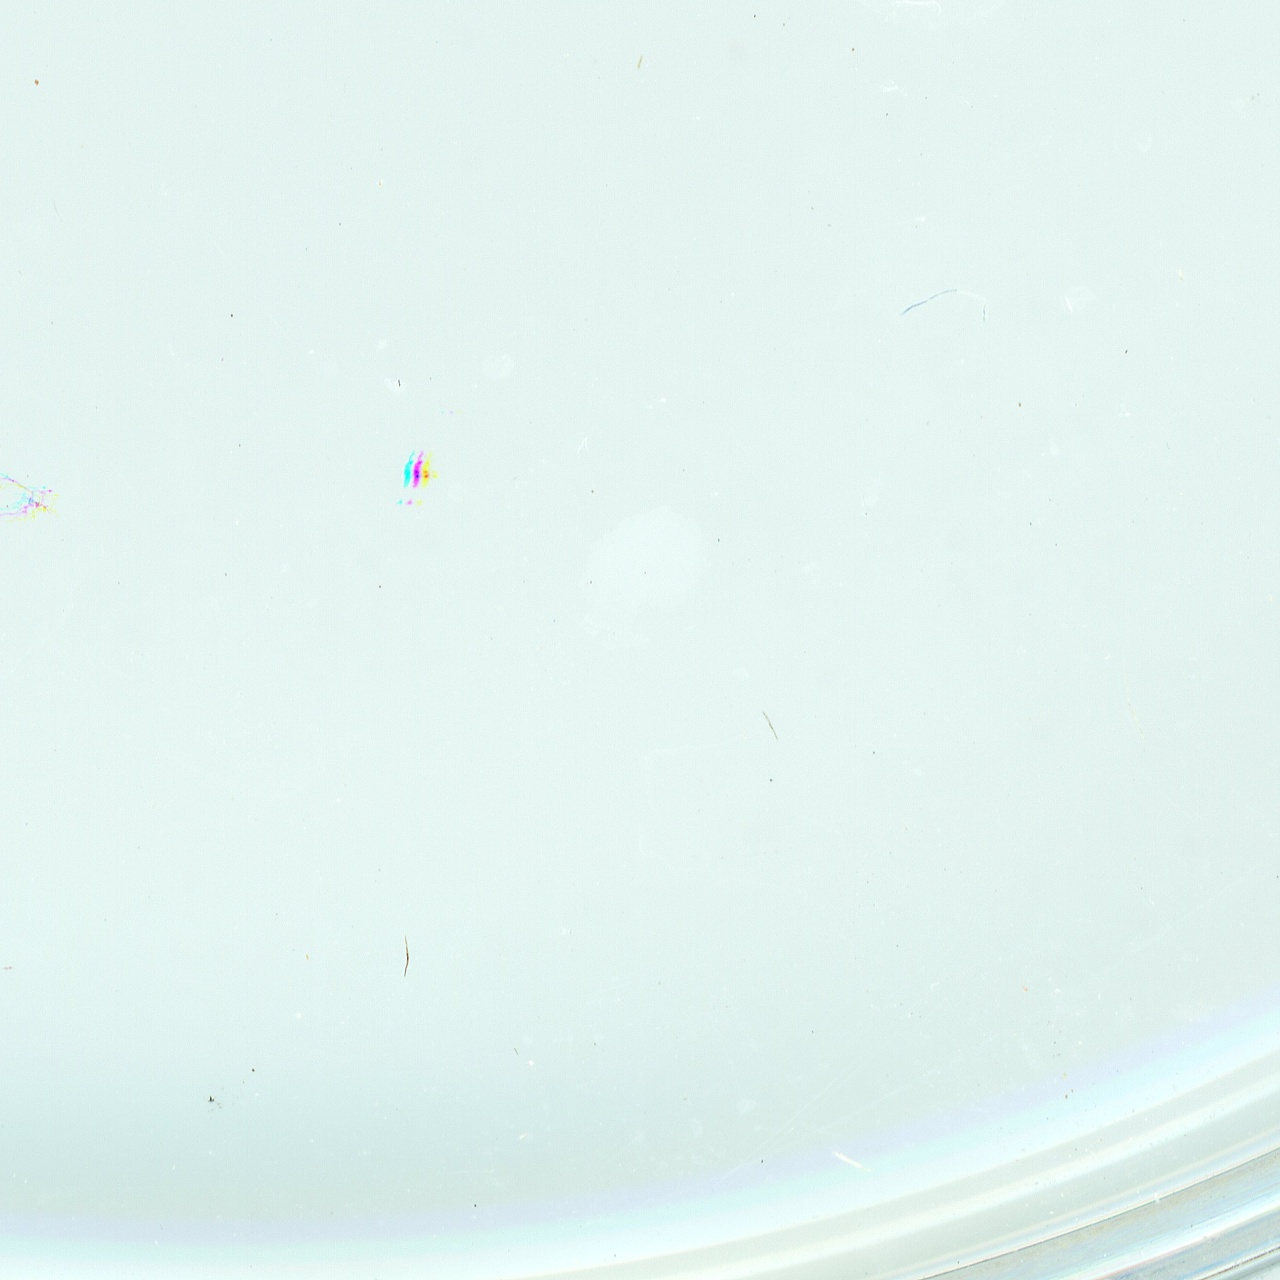arthropod: (393, 443, 438, 512)
